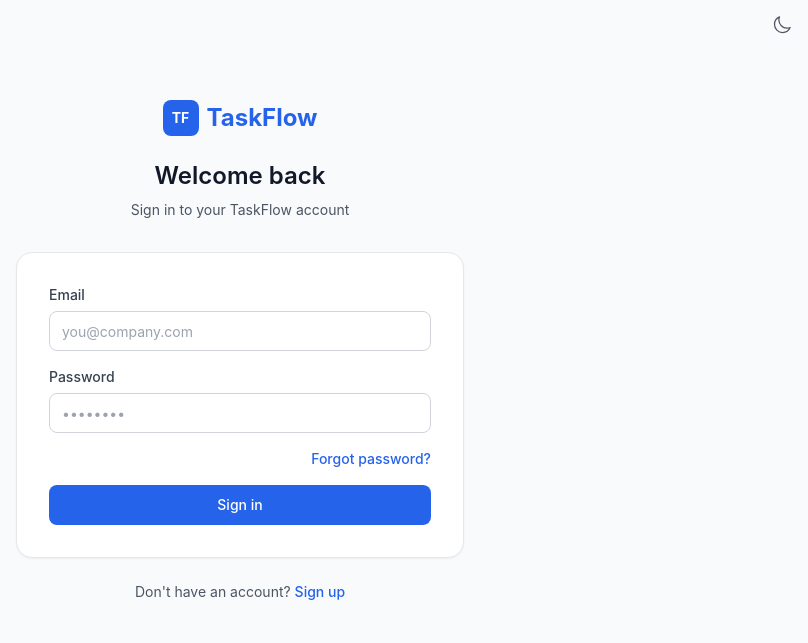
Test: LoginPage › shows validation errors for empty form
The image size is (808, 643).
Click the button "Sign in" at (240, 505), box [49,485,431,525]
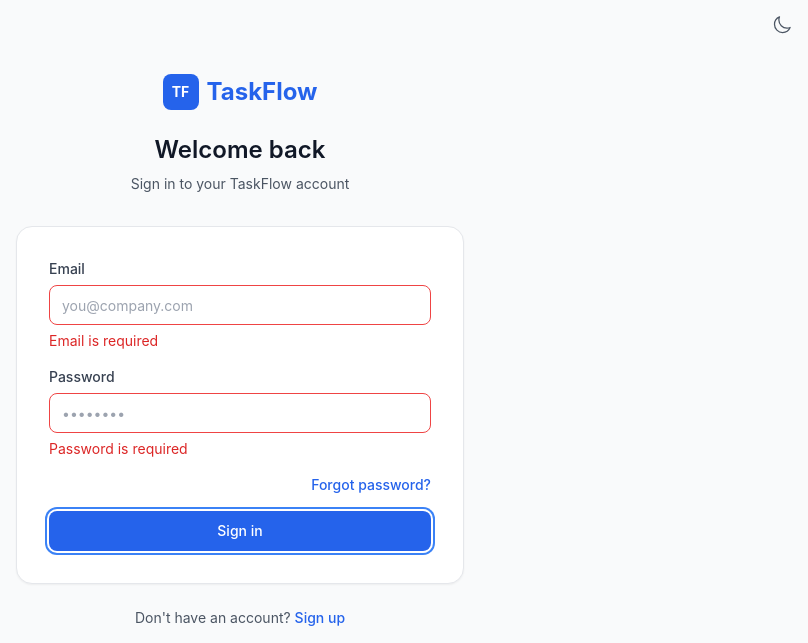
Expected: the text "Email is required" is shown, [49,332,158,349]
Expected: the text "Password is required" is shown, [49,440,188,457]
